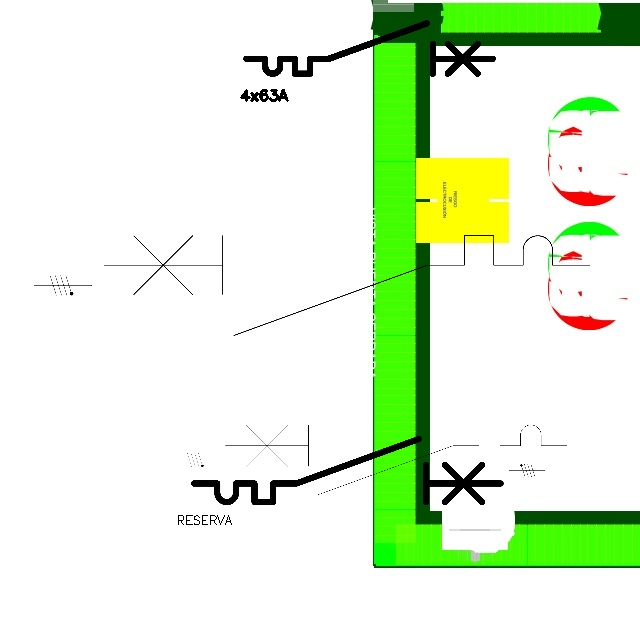interruptor_termomagnetico: (91, 223, 601, 348), (216, 416, 575, 504), (186, 431, 508, 510), (240, 17, 499, 80)
